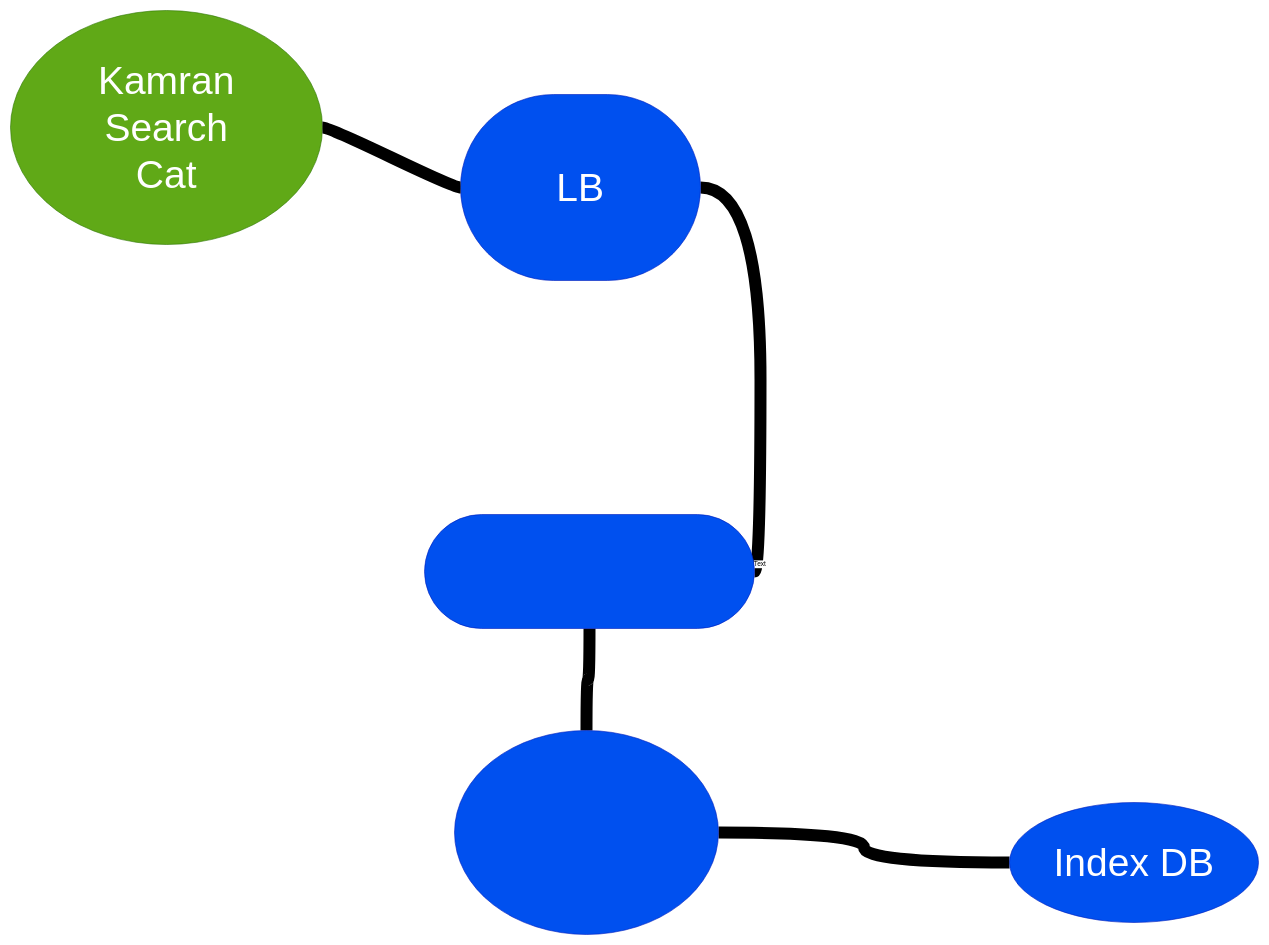
Image size: 1269x945. Some labels were removed from this diagram. The centre of each missing label's shape, as x and y in pixels:
Index Service: point 586,832
Search Service: point 589,571
